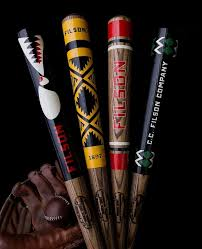baseball bat: (14, 25, 103, 249), (60, 13, 115, 249), (129, 26, 184, 249), (107, 13, 136, 249)
